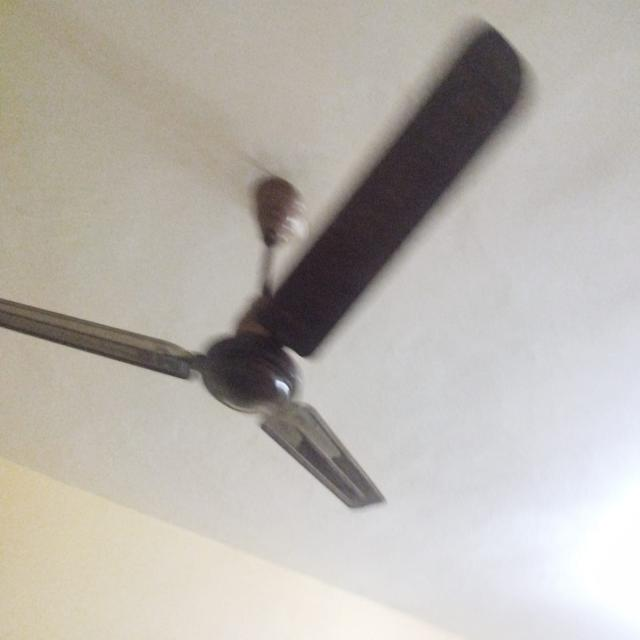fan_off: (4, 31, 529, 498)
